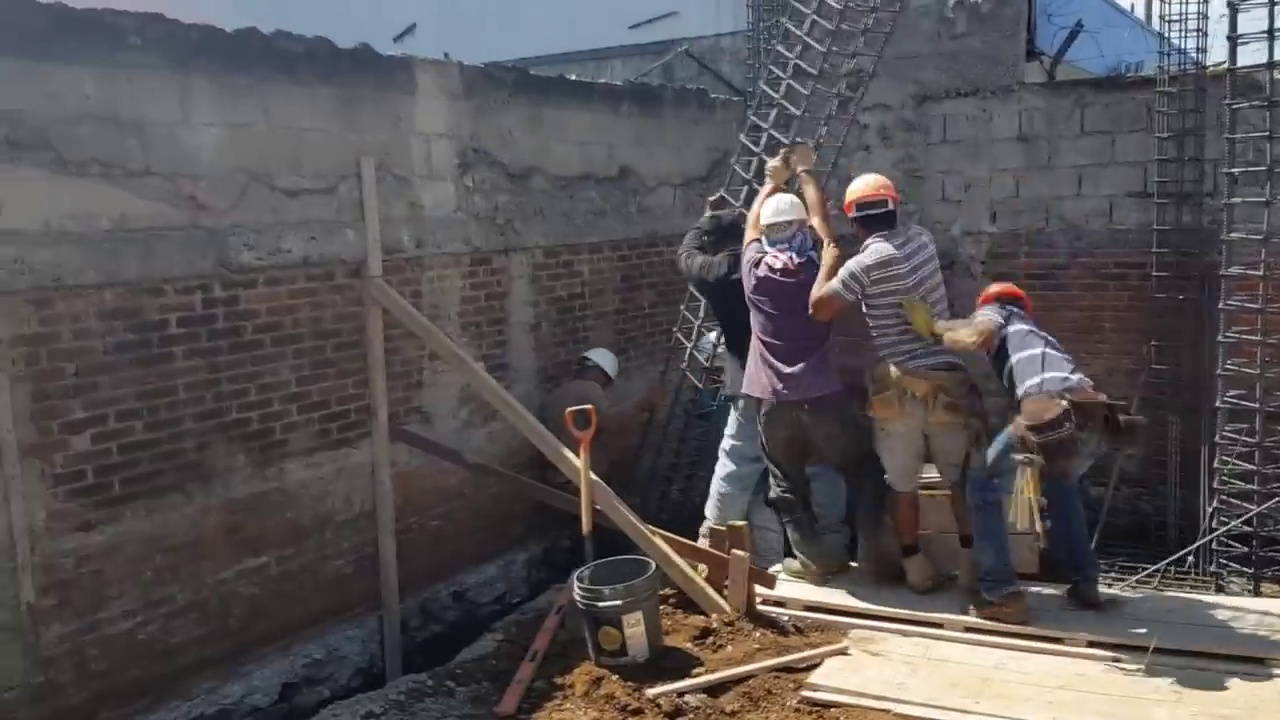helmet: (841, 173, 900, 220), (757, 192, 809, 230), (975, 279, 1032, 307), (581, 349, 620, 380)
helmet-off: (704, 208, 745, 256)
helmet-on: (841, 174, 907, 245), (756, 192, 816, 259), (975, 278, 1031, 319), (572, 347, 620, 384)
person: (808, 172, 991, 595), (901, 274, 1106, 612), (744, 156, 859, 583), (676, 200, 790, 569), (527, 348, 619, 511)
